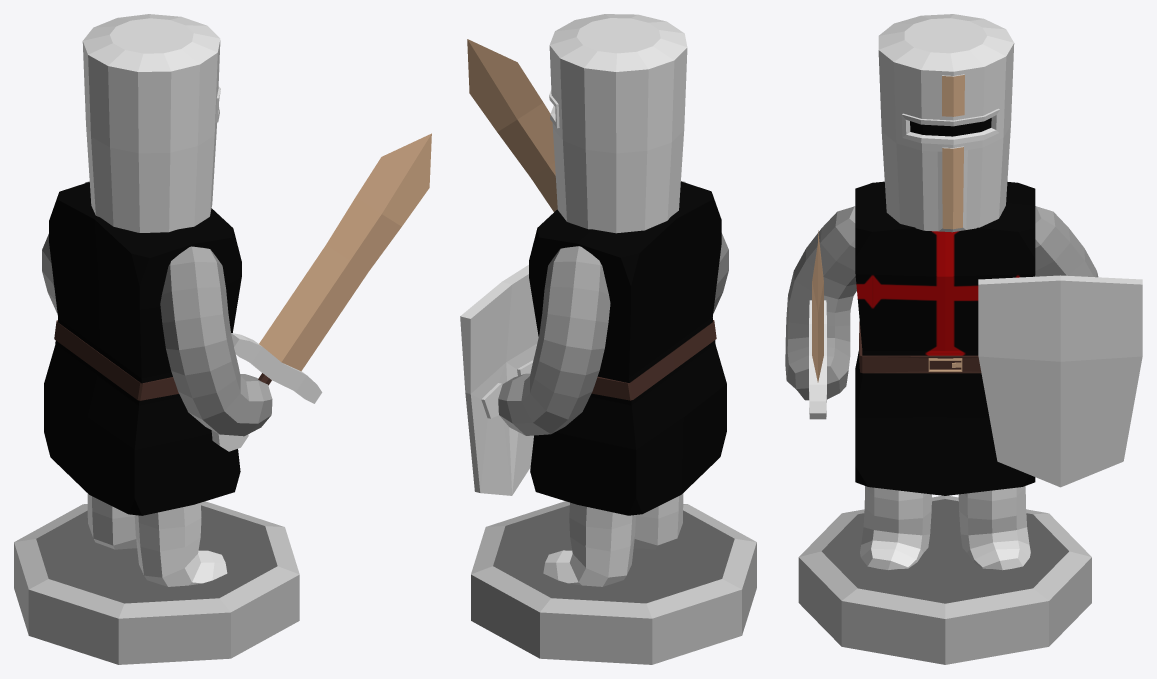
File: phel.fbx
3 views of the same model, side by side, from view 1: azimuth 30°, elevation 25°; view 2: azimuth 150°, elevation 25°; view 3: azimuth 270°, elevation 25° (orthographic).
Visible parts, largest first — view 1: Cube, Cylinder.001, Cylinder, Plane, Vert, Vert.001, Cube.001; view 2: Cube, Cylinder.001, Cylinder, Vert, Plane.001, Vert.001, Plane; view 3: Cube, Cylinder.001, Plane.001, Cylinder, Vert, Vert.001, Plane, Cube.001.
Boxes of the visible parts, x1,y1,x2,y2 form: Cube: [44, 182, 241, 515]; Cylinder.001: [14, 501, 299, 664]; Cylinder: [82, 14, 220, 232]; Plane: [259, 133, 431, 371]; Vert: [42, 181, 272, 436]; Vert.001: [87, 493, 227, 586]; Cube.001: [231, 333, 322, 403]; Cube: [529, 181, 726, 515]; Cylinder.001: [471, 501, 756, 664]; Cylinder: [549, 14, 687, 233]; Vert: [498, 181, 728, 435]; Plane.001: [460, 265, 538, 495]; Vert.001: [543, 493, 683, 586]; Plane: [467, 39, 557, 211]; Cube: [855, 181, 1035, 495]; Cylinder.001: [798, 495, 1091, 664]; Plane.001: [978, 275, 1142, 487]; Cylinder: [878, 14, 1014, 232]; Vert: [785, 206, 1098, 400]; Vert.001: [860, 486, 1030, 570]; Plane: [812, 230, 823, 382]; Cube.001: [809, 300, 826, 419].
Size of the model in its own units: 265 by 425 by 244.
8 materials, 1 textured.
